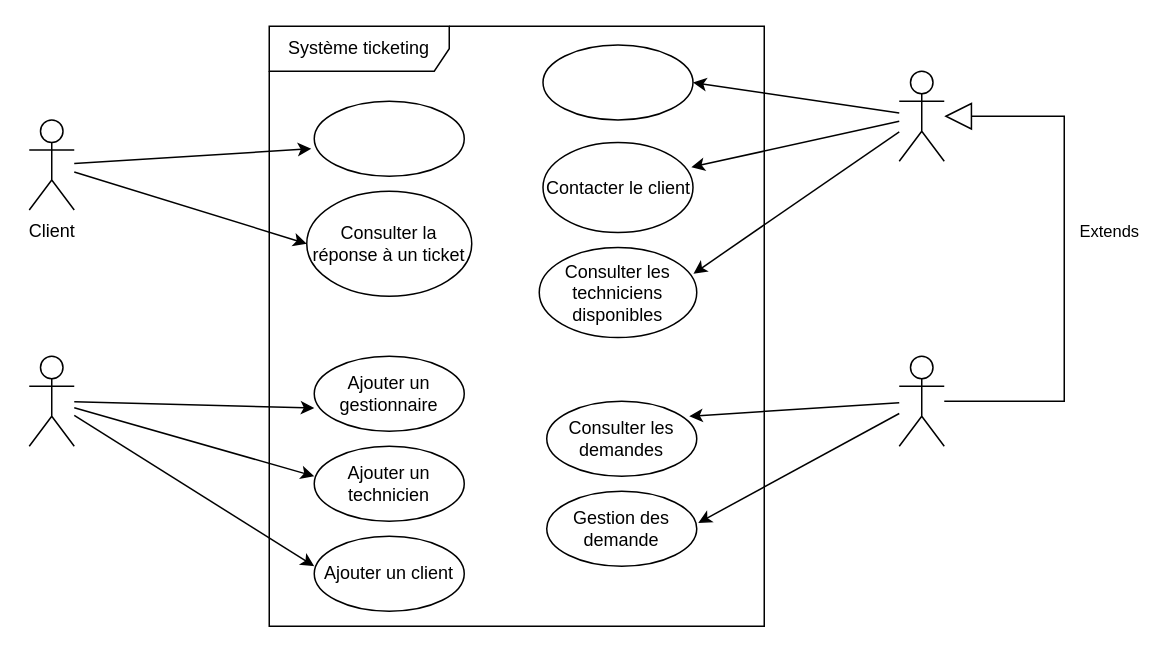
Some shapes in this 1166 by 653 pixel diagram are drawn without their labels. The shapes that lost their labels are listed below. From the top down, each one's centre as x and y in pixels, then its label:
At (x=617, y=82): "Assigner un technicien".
At (x=921, y=115): "Gestionnaire support technique".
At (x=388, y=138): "Créer un ticket".
At (x=51, y=400): "Admin".
At (x=921, y=400): "Technicien".
